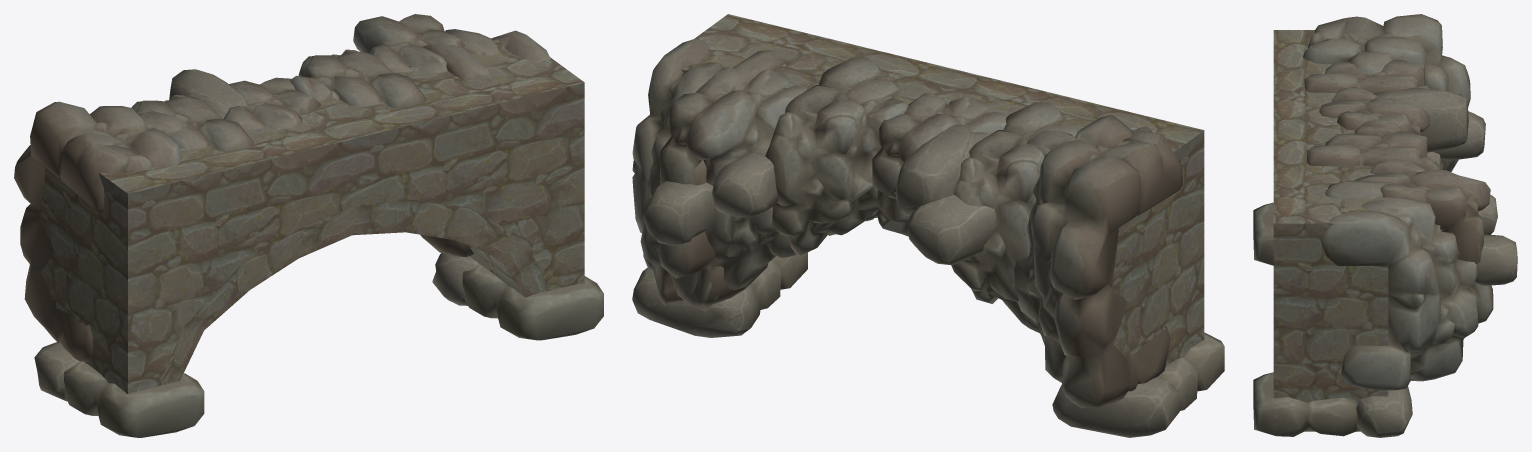
The model's file is SM_FW01_Ruins_Int_Ceiling_B_4x4_Brkn_01.fbx.
3 views of the same model, side by side, from view 1: azimuth 30°, elevation 25°; view 2: azimuth 150°, elevation 25°; view 3: azimuth 270°, elevation 25° (orthographic). The views are drawn at different scales.
Parts seen in each view (by area): view 1: SM_FW01_Ruins_Int_Ceiling_B_4x4_Brkn_01, SM_FW01_Ruins_Int_Ceiling_B_4x4_Brkn_01_LOD0; view 2: SM_FW01_Ruins_Int_Ceiling_B_4x4_Brkn_01_LOD0, SM_FW01_Ruins_Int_Ceiling_B_4x4_Brkn_01; view 3: SM_FW01_Ruins_Int_Ceiling_B_4x4_Brkn_01_LOD0, SM_FW01_Ruins_Int_Ceiling_B_4x4_Brkn_01.
Boxes of the visible parts, left/top/right/bottom form: SM_FW01_Ruins_Int_Ceiling_B_4x4_Brkn_01: left=39, top=39, right=584, bottom=394; SM_FW01_Ruins_Int_Ceiling_B_4x4_Brkn_01_LOD0: left=14, top=14, right=603, bottom=437; SM_FW01_Ruins_Int_Ceiling_B_4x4_Brkn_01_LOD0: left=632, top=38, right=1224, bottom=437; SM_FW01_Ruins_Int_Ceiling_B_4x4_Brkn_01: left=681, top=14, right=1204, bottom=391; SM_FW01_Ruins_Int_Ceiling_B_4x4_Brkn_01_LOD0: left=1253, top=14, right=1517, bottom=437; SM_FW01_Ruins_Int_Ceiling_B_4x4_Brkn_01: left=1273, top=30, right=1388, bottom=431.
Size of what is drawn, in the model's own units: 4.42 by 2.25 by 2.3.
